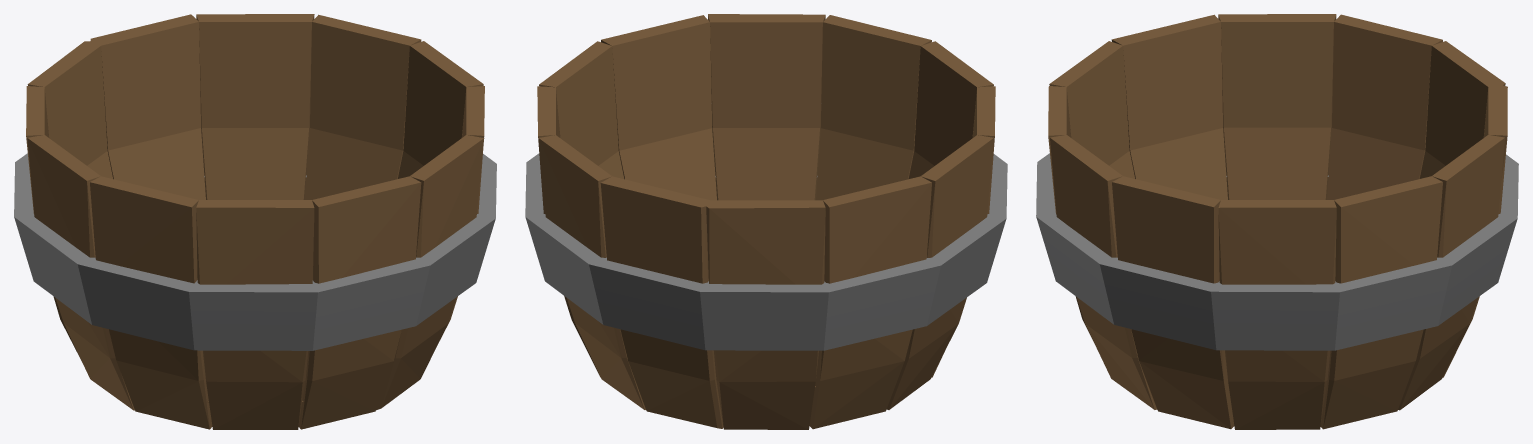
File: Mesh_Props_Basket_02.FBX
3 renders of one model, left to right at view 1: azimuth 30°, elevation 25°; view 2: azimuth 150°, elevation 25°; view 3: azimuth 270°, elevation 25°, orthographic.
Visible parts, largest first — view 1: Mesh_Props_Basket_02; view 2: Mesh_Props_Basket_02; view 3: Mesh_Props_Basket_02.
Part boxes in pixels (box(x1,y1,x2,y2)): Mesh_Props_Basket_02: box(14, 14, 496, 429); Mesh_Props_Basket_02: box(525, 14, 1007, 429); Mesh_Props_Basket_02: box(1036, 14, 1518, 429).
Size of what is drawn, in the model's own units: 55.6 by 55.6 by 31.73.
